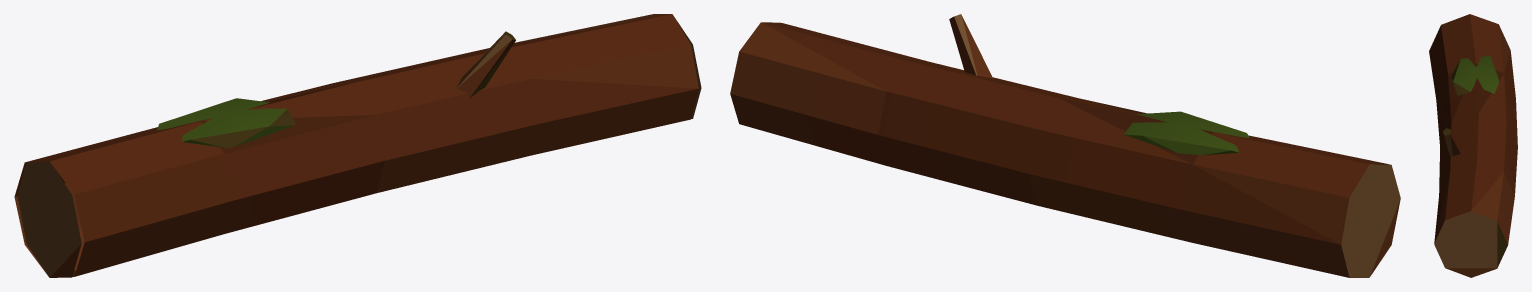
Rendered from bg_forest_log_1_lod2.glb.
3 views of the same model, side by side, from view 1: azimuth 30°, elevation 25°; view 2: azimuth 150°, elevation 25°; view 3: azimuth 270°, elevation 25° (orthographic). The views are drawn at different scales.
Visible parts, largest first — view 1: body; view 2: body; view 3: body.
Part boxes in pixels (box(x1,y1,x2,y2)): body: box(14, 14, 701, 277); body: box(730, 14, 1400, 277); body: box(1429, 14, 1517, 277).
Size of the model in its own units: 2.02 by 0.4614 by 0.3884.
